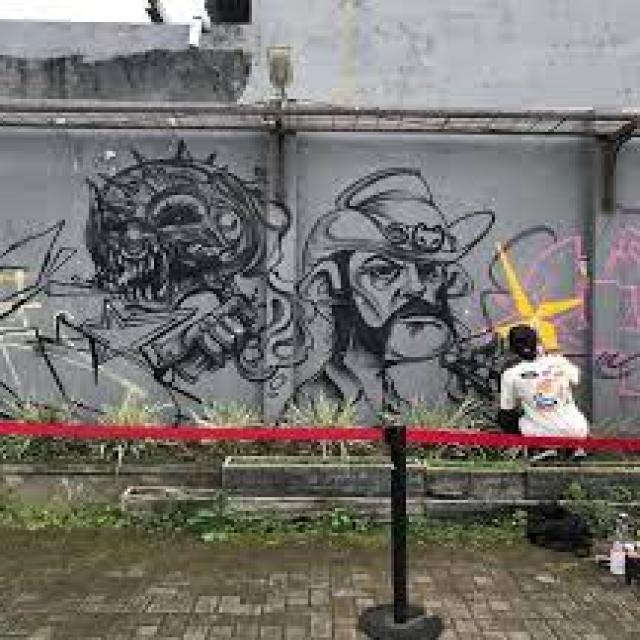-: (81, 136, 312, 386), (280, 168, 496, 424), (0, 217, 181, 426), (480, 222, 640, 398)
